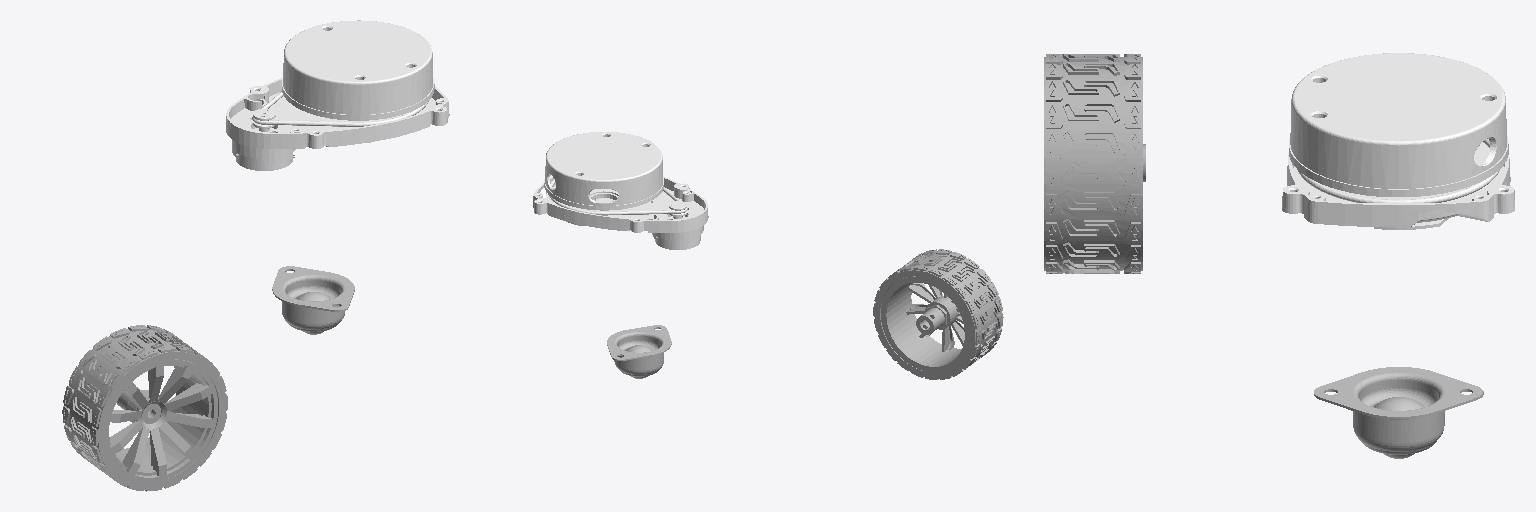
robot.urdf — lidar_diffbot:
<?xml version='1.0' encoding='UTF-8'?>
<robot name="lidar_diffbot">
  <link name="base_footprint"/>
  <link name="base_link">
    <inertial>
      <origin xyz="0.0427920000000007 0.00052521 0.018606" rpy="0.0 -0.0 0.0"/>
      <mass value="1.9115"/>
      <inertia ixx="0.0067178" ixy="1.6443e-05" ixz="-0.00010546" iyy="0.0063408" iyz="-8.6058e-06" izz="0.01183"/>
    </inertial>
    <visual>
      <geometry>
        <mesh filename="package://lidar_diffbot_description/meshes/collision/base_link.stl"/>
      </geometry>
      <material name="__unnamed_material_1"/>
      <origin xyz="6.86520889051681e-16 0.0 -0.0183" rpy="0.0 -0.0 0.0"/>
    </visual>
    <collision>
      <geometry>
        <mesh filename="package://lidar_diffbot_description/meshes/collision/base_link.stl"/>
      </geometry>
      <origin xyz="6.86520889051681e-16 0.0 -0.0183" rpy="0.0 -0.0 0.0"/>
    </collision>
  </link>
  <link name="left_wheel_link">
    <inertial>
      <origin xyz="0.000392050000000687 0.0183089504 -0.0899973472000007" rpy="0.0 -0.0 0.0"/>
      <mass value="0.079032"/>
      <inertia ixx="2.8217e-05" ixy="2.62659999989198e-10" ixz="-3.52829999999999e-09" iyy="4.608e-05" iyz="1.04399999312683e-10" izz="2.8184e-05"/>
    </inertial>
    <visual>
      <geometry>
        <mesh filename="package://lidar_diffbot_description/meshes/collision/left_wheel_link.stl"/>
      </geometry>
      <material name="__unnamed_material_2"/>
      <origin xyz="6.86520889051681e-16 0.0183 -0.0900000000000007" rpy="1.57079632679486 -6.12323399573677e-16 2.35170729524333e-29"/>
    </visual>
    <collision>
      <geometry>
        <mesh filename="package://lidar_diffbot_description/meshes/collision/left_wheel_link.stl"/>
      </geometry>
      <origin xyz="6.86520889051681e-16 0.0183 -0.0900000000000007" rpy="1.57079632679486 -6.12323399573677e-16 2.35170729524333e-29"/>
    </collision>
  </link>
  <link name="right_wheel_link">
    <inertial>
      <origin xyz="0.000450370000000687 0.0182910496 0.0900017011999993" rpy="0.0 -0.0 0.0"/>
      <mass value="0.079032"/>
      <inertia ixx="2.8217e-05" ixy="2.65929999988967e-10" ixz="2.46390000000001e-09" iyy="4.608e-05" iyz="-9.57740006873206e-11" izz="2.8184e-05"/>
    </inertial>
    <visual>
      <geometry>
        <mesh filename="package://lidar_diffbot_description/meshes/collision/right_wheel_link.stl"/>
      </geometry>
      <material name="__unnamed_material_3"/>
      <origin xyz="6.86520889051681e-16 0.0183 0.0899999999999993" rpy="1.57079632679486 -6.12323399573677e-16 2.35170729524333e-29"/>
    </visual>
    <collision>
      <geometry>
        <mesh filename="package://lidar_diffbot_description/meshes/collision/right_wheel_link.stl"/>
      </geometry>
      <origin xyz="6.86520889051681e-16 0.0183 0.0899999999999993" rpy="1.57079632679486 -6.12323399573677e-16 2.35170729524333e-29"/>
    </collision>
  </link>
  <link name="caster_wheel_link">
    <inertial>
      <origin xyz="-0.1350000083262 -1.42829995588798e-08 0.00993269999999999" rpy="0.0 -0.0 0.0"/>
      <mass value="0.0070691"/>
      <inertia ixx="5.0192e-07" ixy="-1.367e-12" ixz="-1.3539e-13" iyy="4.5156e-07" iyz="-1.5417e-13" izz="7.136e-07"/>
    </inertial>
    <visual>
      <geometry>
        <mesh filename="package://lidar_diffbot_description/meshes/collision/caster_wheel_link.stl"/>
      </geometry>
      <material name="__unnamed_material_4"/>
      <origin xyz="-0.135 4.41120185233342e-16 0.00626249999999999" rpy="0.0 -0.0 0.0"/>
    </visual>
    <collision>
      <geometry>
        <mesh filename="package://lidar_diffbot_description/meshes/collision/caster_wheel_link.stl"/>
      </geometry>
      <origin xyz="-0.135 4.41120185233342e-16 0.00626249999999999" rpy="0.0 -0.0 0.0"/>
    </collision>
  </link>
  <link name="imu_link">
    <inertial>
      <origin xyz="-0.0380467899999992 -9.83990000003125e-05 -0.0207004384719009" rpy="0.0 -0.0 0.0"/>
      <mass value="0.00046281"/>
      <inertia ixx="1.5422e-08" ixy="-3.273e-14" ixz="-1.9001e-15" iyy="4.9552e-09" iyz="2.2747e-13" izz="2.0169e-08"/>
    </inertial>
    <visual>
      <geometry>
        <mesh filename="package://lidar_diffbot_description/meshes/collision/imu_link.stl"/>
      </geometry>
      <material name="__unnamed_material_5"/>
      <origin xyz="-0.0382799999999992 -3.12496121097359e-16 -0.0199985784719009" rpy="0.0 -0.0 0.0"/>
    </visual>
    <collision>
      <geometry>
        <mesh filename="package://lidar_diffbot_description/meshes/collision/imu_link.stl"/>
      </geometry>
      <origin xyz="-0.0382799999999992 -3.12496121097359e-16 -0.0199985784719009" rpy="0.0 -0.0 0.0"/>
    </collision>
  </link>
  <link name="laser_frame">
    <inertial>
      <origin xyz="-0.156859903502094 4.09045498450007e-05 -0.103351884899403" rpy="0.0 -0.0 0.0"/>
      <mass value="0.0"/>
      <inertia ixx="0.0" ixy="0.0" ixz="0.0" iyy="0.0" iyz="0.0" izz="0.0"/>
    </inertial>
    <visual>
      <geometry>
        <mesh filename="package://lidar_diffbot_description/meshes/collision/laser_frame.stl"/>
      </geometry>
      <material name="__unnamed_material_6"/>
      <origin xyz="-0.156859903502094 4.09045498450007e-05 -0.103351884899403" rpy="0.0 -0.0 0.0"/>
    </visual>
    <collision>
      <geometry>
        <mesh filename="package://lidar_diffbot_description/meshes/collision/laser_frame.stl"/>
      </geometry>
      <origin xyz="-0.156859903502094 4.09045498450007e-05 -0.103351884899403" rpy="0.0 -0.0 0.0"/>
    </collision>
  </link>
  <joint name="base_footprint_joint" type="fixed">
    <parent link="base_footprint"/>
    <child link="base_link"/>
    <origin xyz="0.0 0.0 0.0325" rpy="0.0 0.0 0.0"/>
  </joint>
  <joint name="left_wheel_joint" type="continuous">
    <dynamics damping="0.1" friction="0.1"/>
    <limit effort="0.0" velocity="0.0"/>
    <parent link="base_link"/>
    <child link="left_wheel_link"/>
    <axis xyz="0. 0. 1."/>
    <origin xyz="0.0 0.09 0.0" rpy="-1.5708 -0.0 0.0"/>
  </joint>
  <joint name="right_wheel_joint" type="continuous">
    <dynamics damping="0.1" friction="0.1"/>
    <limit effort="0.0" velocity="0.0"/>
    <parent link="base_link"/>
    <child link="right_wheel_link"/>
    <axis xyz="0. 0. 1."/>
    <origin xyz="0.0 -0.09 0.0" rpy="-1.5708 -0.0 0.0"/>
  </joint>
  <joint name="caster_wheel_joint" type="fixed">
    <dynamics damping="0.1" friction="0.1"/>
    <limit effort="0.0" velocity="0.0"/>
    <parent link="base_link"/>
    <child link="caster_wheel_link"/>
    <axis xyz="0. 0. 0."/>
    <origin xyz="0.135 0.0 -0.024563" rpy="0.0 -0.0 0.0"/>
  </joint>
  <joint name="imu_joint" type="fixed">
    <dynamics damping="0.1" friction="0.1"/>
    <limit effort="0.0" velocity="0.0"/>
    <parent link="base_link"/>
    <child link="imu_link"/>
    <axis xyz="0. 0. 0."/>
    <origin xyz="0.03828 0.0 0.0016986" rpy="0.0 -0.0 0.0"/>
  </joint>
  <joint name="lidar_joint" type="fixed">
    <dynamics damping="0.1" friction="0.1"/>
    <limit effort="0.0" velocity="0.0"/>
    <parent link="base_link"/>
    <child link="laser_frame"/>
    <axis xyz="0. 0. 0."/>
    <origin xyz="0.15686 -4.0905e-05 0.085052" rpy="0.0 -0.0 0.0"/>
  </joint>
  <material name="__unnamed_material_1">
    <color rgba="0.79216 0.81961 0.93333 1.     "/>
  </material>
  <material name="__unnamed_material_2">
    <color rgba="0.75294 0.75294 0.75294 1.     "/>
  </material>
  <material name="__unnamed_material_3">
    <color rgba="0.75294 0.75294 0.75294 1.     "/>
  </material>
  <material name="__unnamed_material_4">
    <color rgba="0.79608 0.79608 0.79608 1.     "/>
  </material>
  <material name="__unnamed_material_5">
    <color rgba="1. 1. 1. 1."/>
  </material>
  <material name="__unnamed_material_6">
    <color rgba="1. 1. 1. 1."/>
  </material>
</robot>

--- Render facts (derived) ---
The picture shows the robot from 3 angles, left to right: view 1: azimuth 30°, elevation 25°; view 2: azimuth 150°, elevation 25°; view 3: azimuth 270°, elevation 25°; orthographic projection.
Robot: lidar_diffbot — 7 links, 6 joints (2 continuous, 4 fixed); root link base_footprint; default pose: all joints at 0.
Visible links, largest first — view 1: laser_frame, right_wheel_link, caster_wheel_link; view 2: laser_frame, right_wheel_link, caster_wheel_link; view 3: laser_frame, right_wheel_link, caster_wheel_link.
Boxes of the visible links, box(x1,y1,x2,y2) form: laser_frame: box(226, 20, 449, 170); right_wheel_link: box(62, 325, 227, 491); caster_wheel_link: box(272, 266, 354, 334); laser_frame: box(533, 132, 708, 249); right_wheel_link: box(873, 249, 1003, 379); caster_wheel_link: box(607, 325, 671, 378); laser_frame: box(1282, 53, 1514, 229); right_wheel_link: box(1044, 54, 1145, 273); caster_wheel_link: box(1314, 367, 1483, 458).
Bounding box of the posed robot: 0.222 × 0.1389 × 0.1271 m (x, y, z).
Meshes: 6 distinct files referenced, 3 mesh visuals loaded (3 binary STL); not drawn: 3 (reference not matched to a file when rendering).
